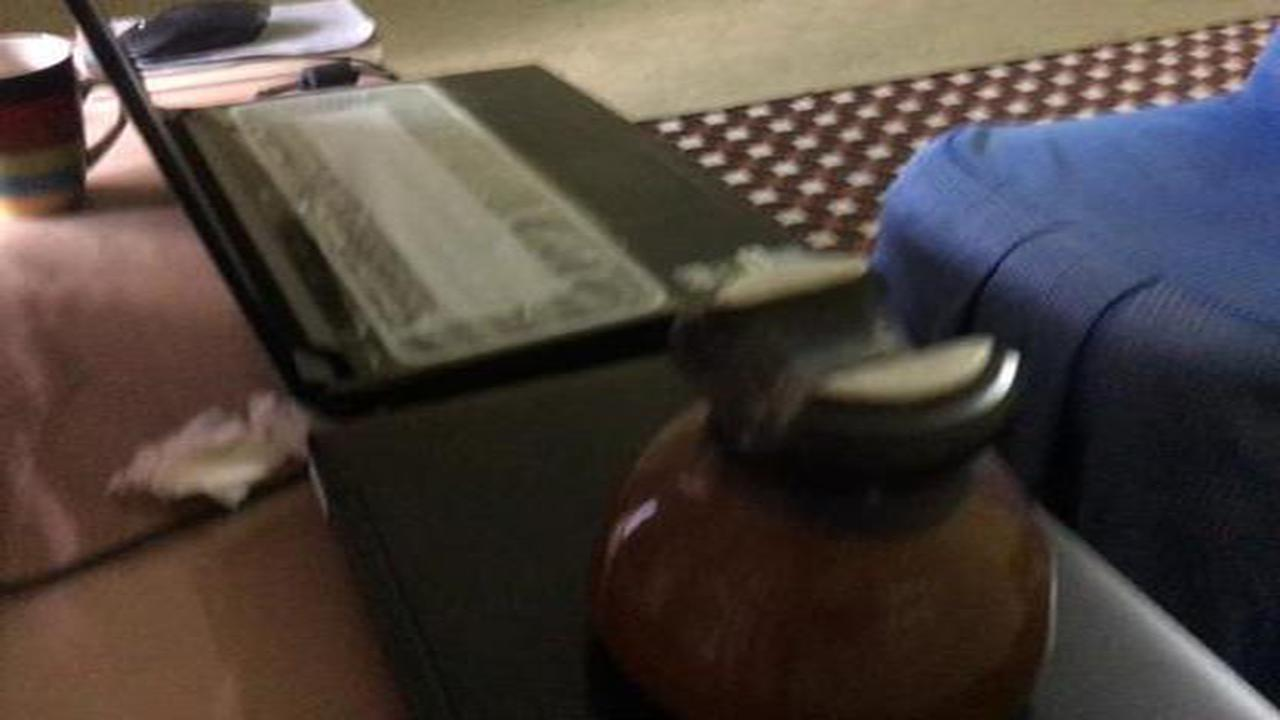insulator_pin: (588, 243, 1077, 720)
